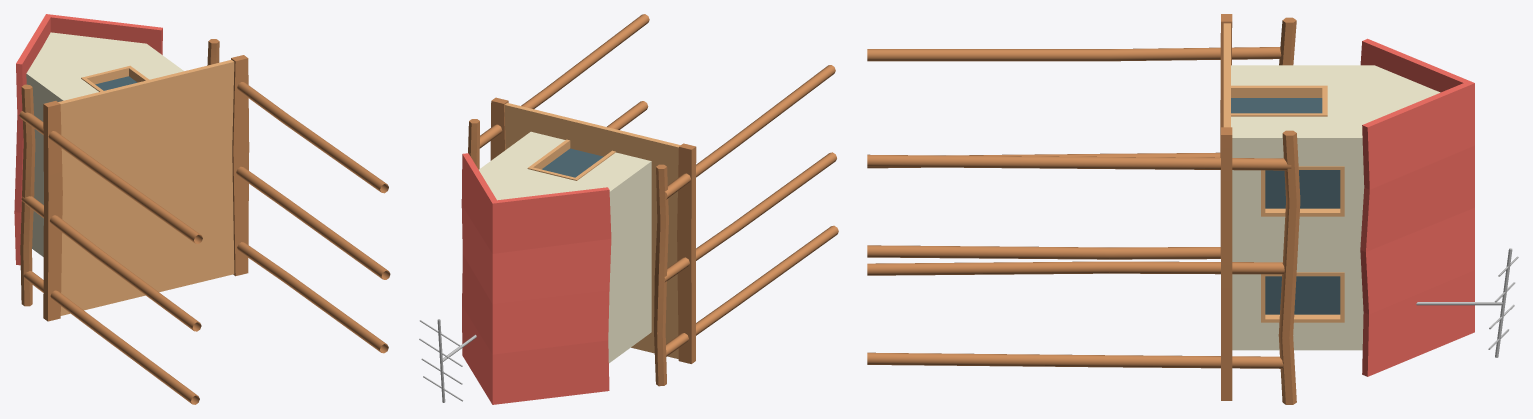
File: Hut_1.fbx
The picture shows the model from 3 angles, left to right: view 1: azimuth 30°, elevation 25°; view 2: azimuth 150°, elevation 25°; view 3: azimuth 270°, elevation 25°; orthographic projection. The views are drawn at different scales.
Visible parts, largest first — view 1: Circle.006; view 2: Circle.006; view 3: Circle.006.
Boxes of the visible parts, bbox=[...] form: Circle.006: bbox=[14, 14, 390, 404]; Circle.006: bbox=[419, 14, 838, 404]; Circle.006: bbox=[867, 14, 1518, 404].
Size of the model in its own units: 242 by 252 by 549.
